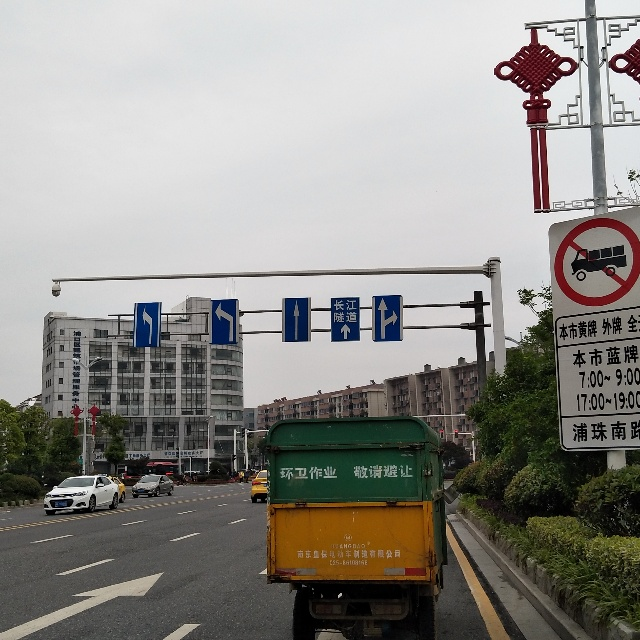left: (209, 299, 239, 344), (133, 302, 161, 348)
straight: (282, 298, 311, 342)
